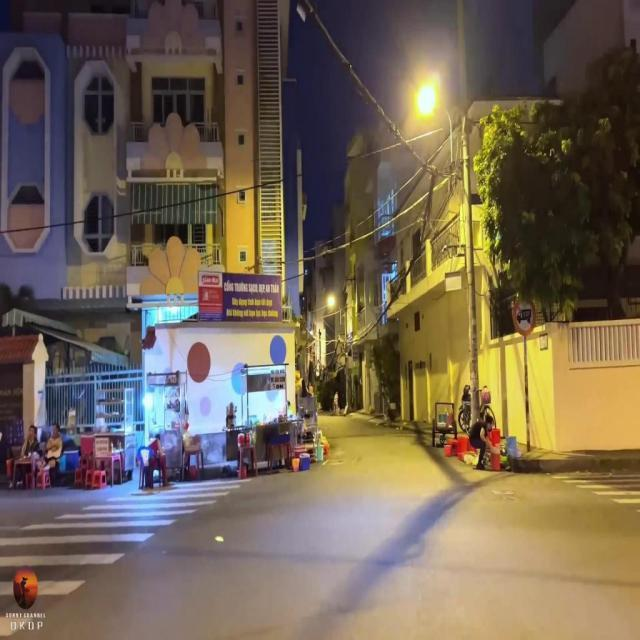106-cam-oto-tai: (512, 296, 536, 336)
